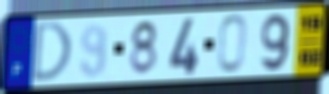0: (215, 12, 252, 76)
4: (168, 15, 203, 78)
8: (127, 19, 158, 77)
9: (259, 11, 292, 72), (78, 21, 111, 79)
D: (30, 20, 74, 86)
